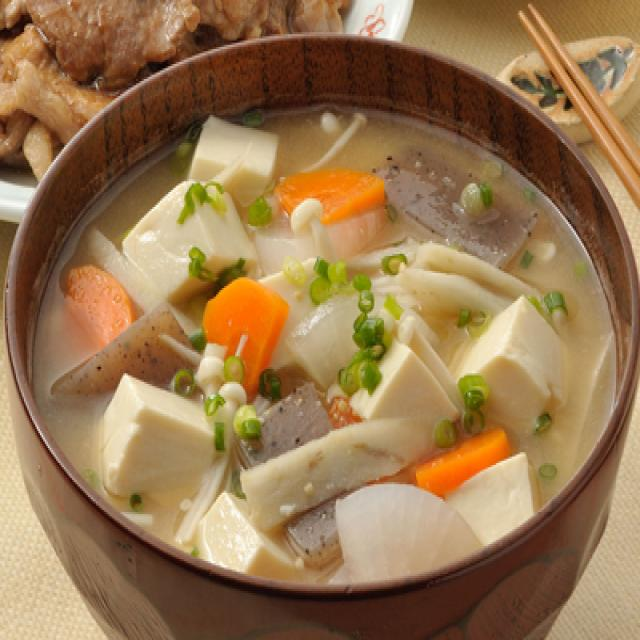蔬菜料理: (3, 34, 640, 608)
